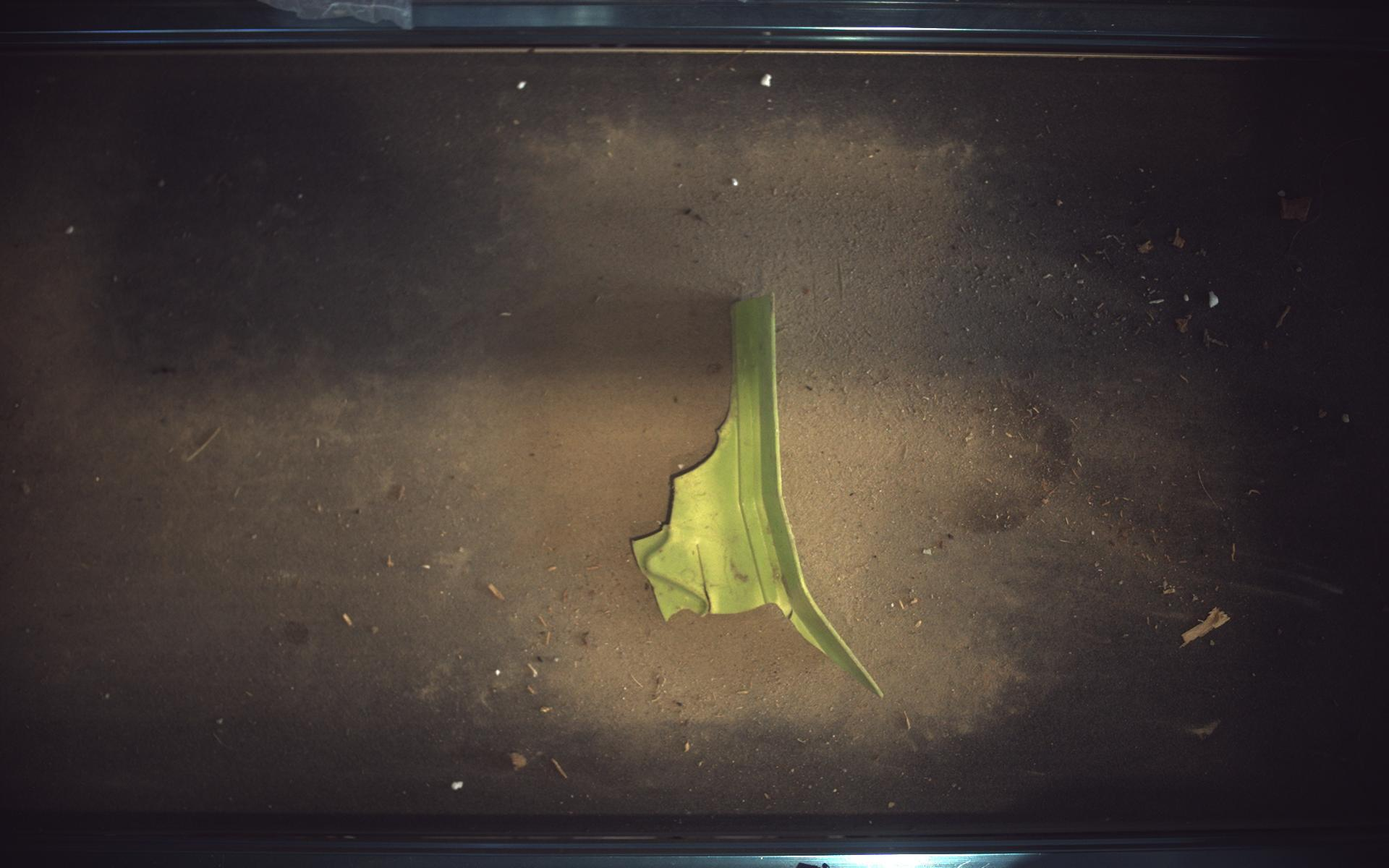plastic: (634, 294, 883, 697)
